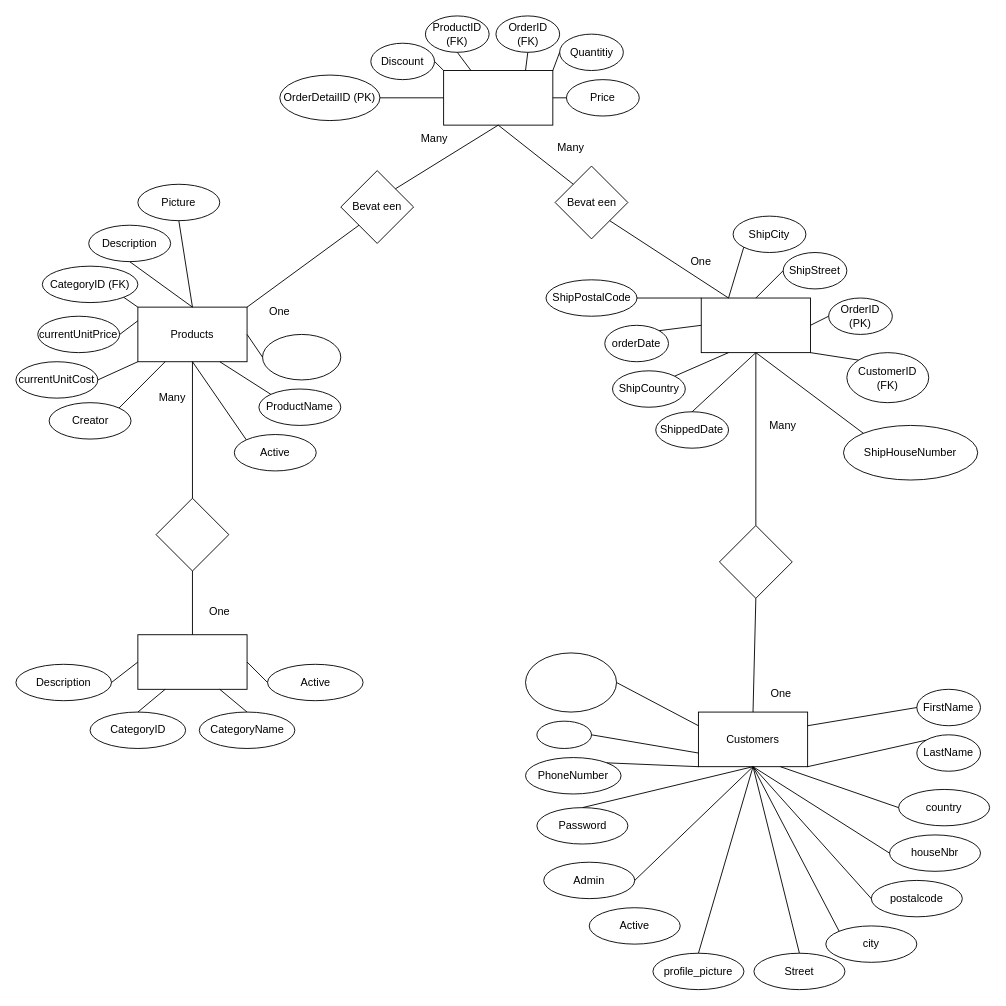
The diagram is 1006 pixels wide and 1006 high, and some of its shapes have lost their labels. Here are the shapes that lost their labels. From the top down, the box of each, then its label:
(443, 70, 553, 125): Order Details
(700, 297, 810, 353): Orders
(262, 334, 341, 380): ProductID (PK)
(155, 497, 229, 571): Behoort tot
(719, 525, 792, 598): Plaatst een
(137, 634, 247, 689): Category
(525, 652, 617, 712): CustomerID (PK)
(536, 720, 592, 748): Email
